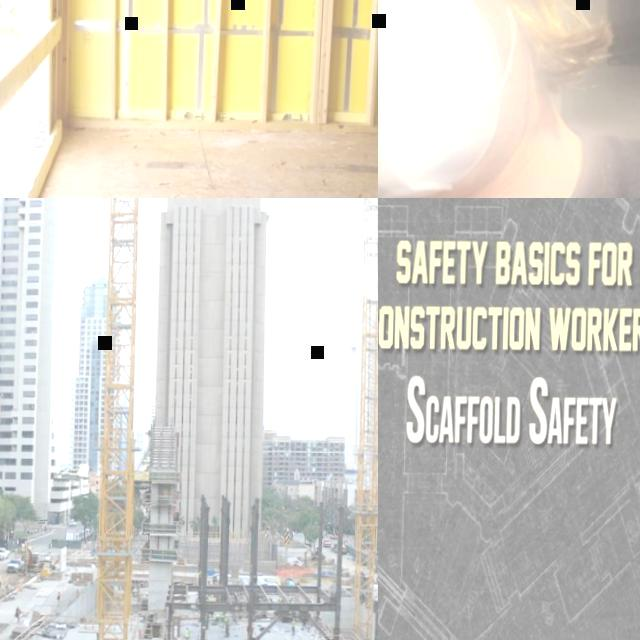helmet: (293, 618, 296, 620), (59, 589, 62, 591)
machinery: (22, 536, 44, 576), (323, 538, 332, 547)
mask: (378, 0, 523, 198)
no_vest: (378, 132, 640, 198)
person: (378, 0, 640, 198), (225, 614, 232, 638), (185, 626, 192, 640), (16, 605, 22, 621), (292, 617, 296, 635), (58, 588, 64, 600), (0, 574, 4, 587), (140, 628, 144, 640)
safety_cone: (0, 597, 3, 605)
vehicle: (8, 557, 24, 572), (0, 546, 11, 559)
vest: (226, 618, 231, 624), (187, 628, 190, 636), (140, 630, 144, 636), (0, 575, 3, 580), (294, 620, 296, 626)
